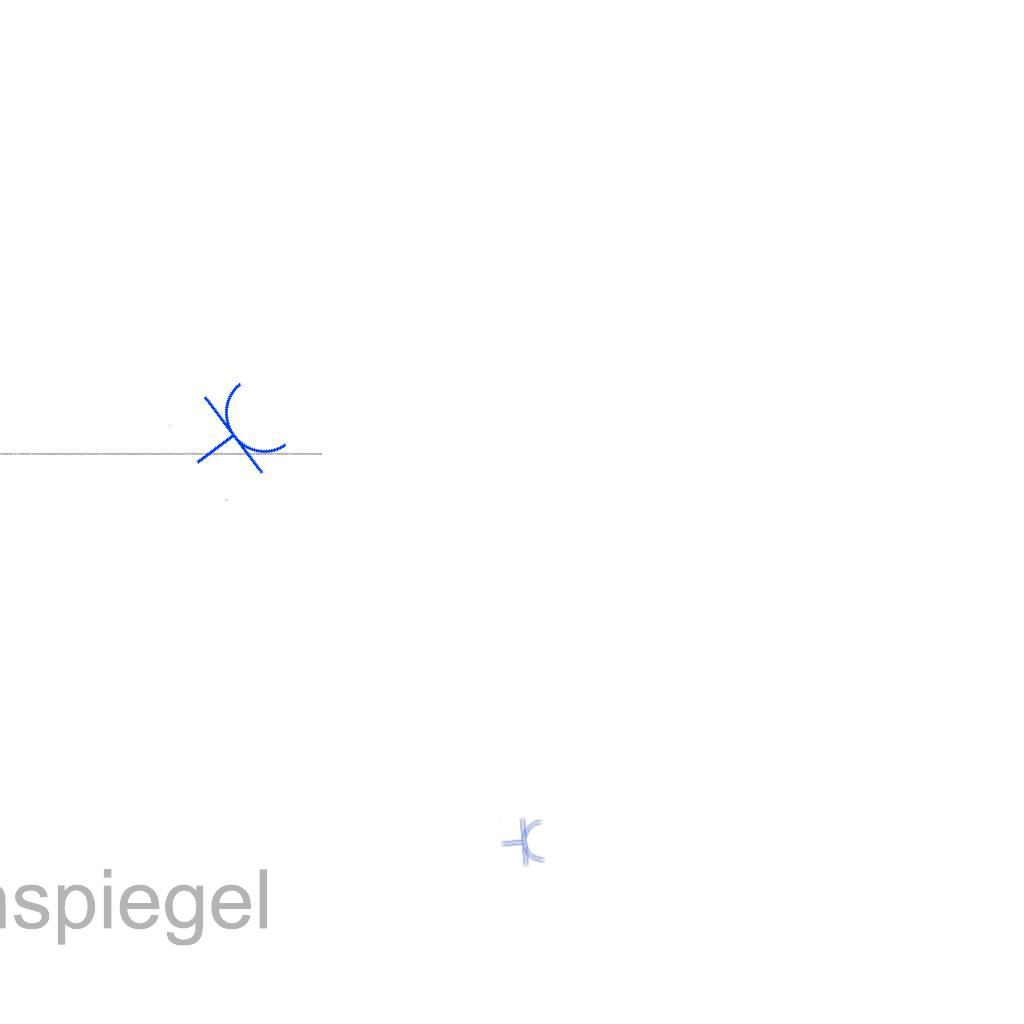Schukosteckdose_einfach: (167, 371, 297, 504), (499, 815, 547, 870)
